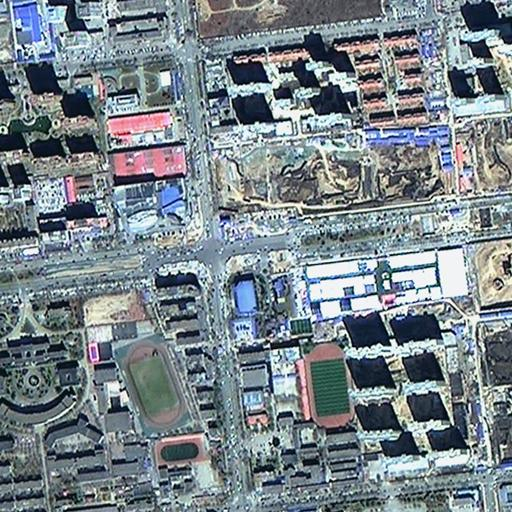school: (237, 338, 354, 435), (152, 433, 209, 497)
